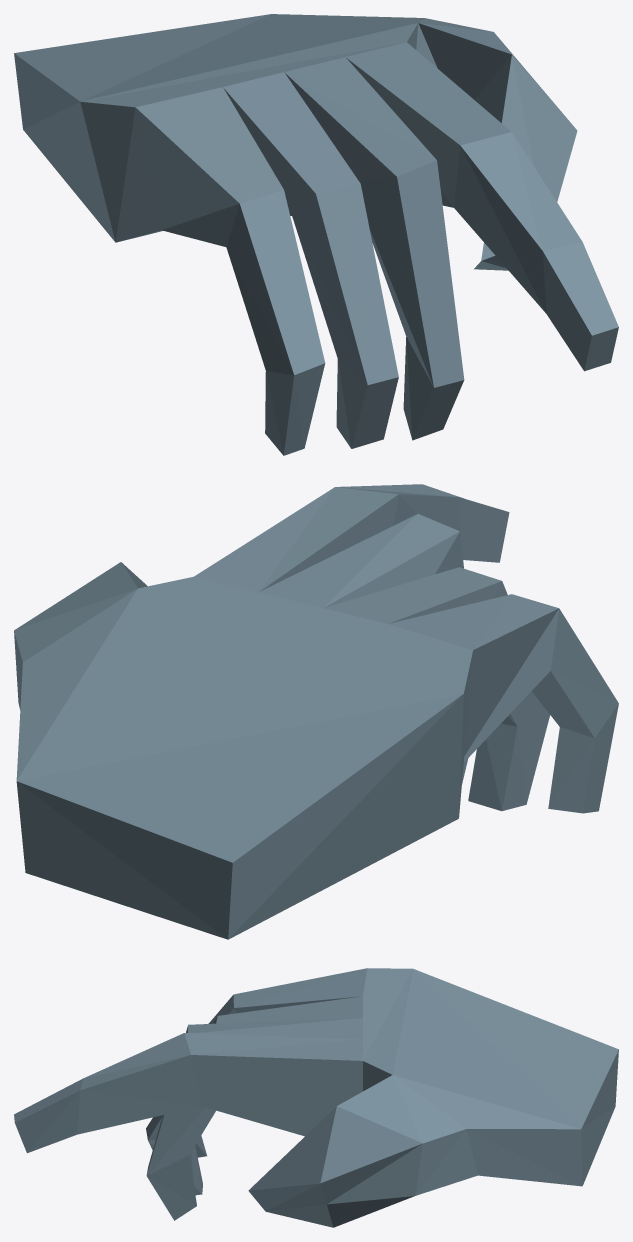
The model's file is HandP.glb.
3 renders of one model, top to bottom at view 1: azimuth 30°, elevation 25°; view 2: azimuth 150°, elevation 25°; view 3: azimuth 270°, elevation 25°, orthographic. The views are drawn at different scales.
Visible parts, largest first — view 1: group2098783903; view 2: group2098783903; view 3: group2098783903.
Part boxes in pixels (x1,y1,x2,y2): group2098783903: (14,14,618,455); group2098783903: (14,484,618,939); group2098783903: (14,968,618,1227).
Bounding box in the file's own units: 0.1671 × 0.103 × 0.2813.
